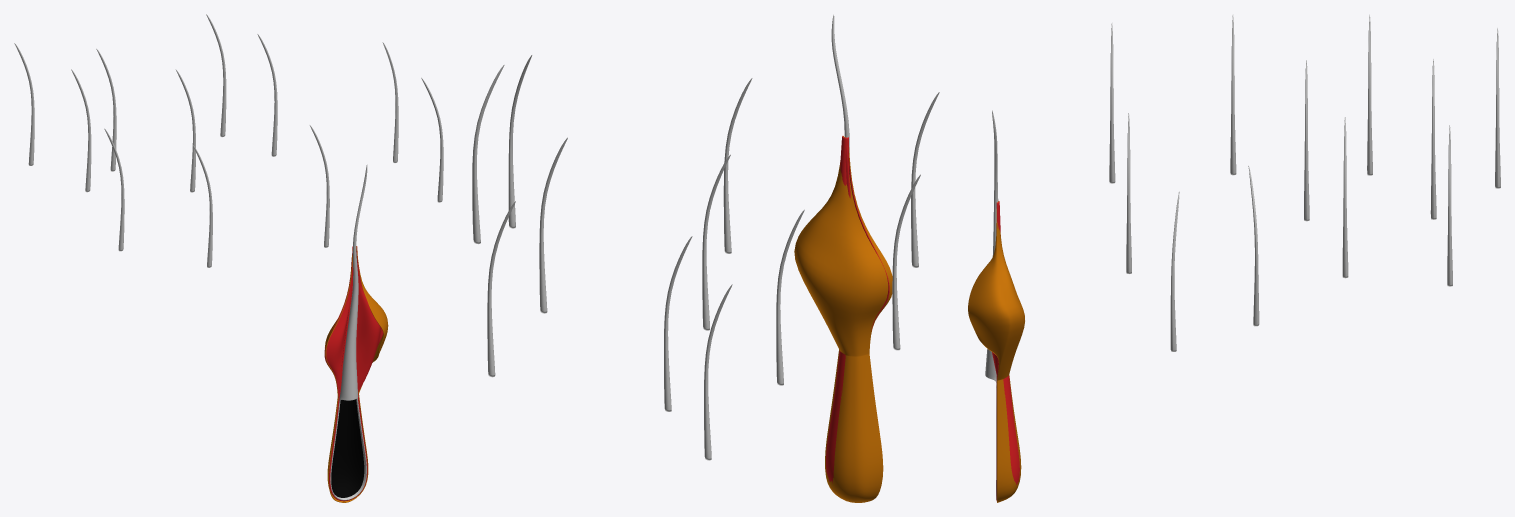
The model's file is Hair_Folicle.obj.
3 renders of one model, left to right at view 1: azimuth 30°, elevation 25°; view 2: azimuth 150°, elevation 25°; view 3: azimuth 270°, elevation 25°, orthographic. The views are drawn at different scales.
Parts seen in each view (by area): view 1: Hair_Folicle; view 2: Hair_Folicle; view 3: Hair_Folicle.
Boxes of the visible parts, x1,y1,x2,y2 form: Hair_Folicle: [14, 14, 443, 502]; Hair_Folicle: [472, 14, 939, 502]; Hair_Folicle: [968, 14, 1500, 502].
Bounding box in the file's own units: 0.8594 × 0.9138 × 1.06.
